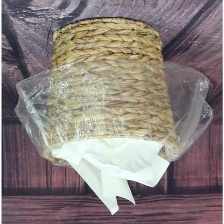tissue: (44, 130, 176, 220)
